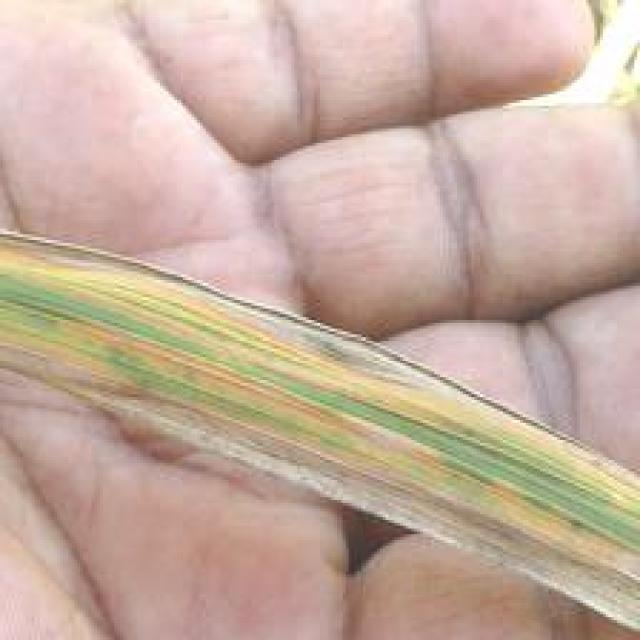Rice_Bacterial_Blight: (17, 228, 597, 568)
